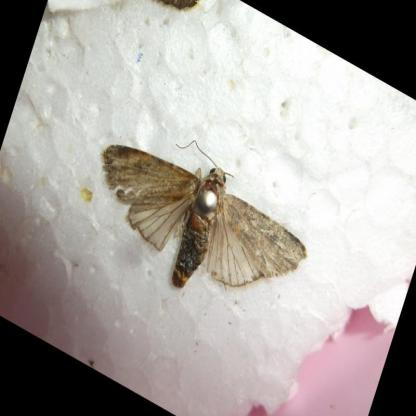Leaf Webber: (103, 141, 307, 294)
